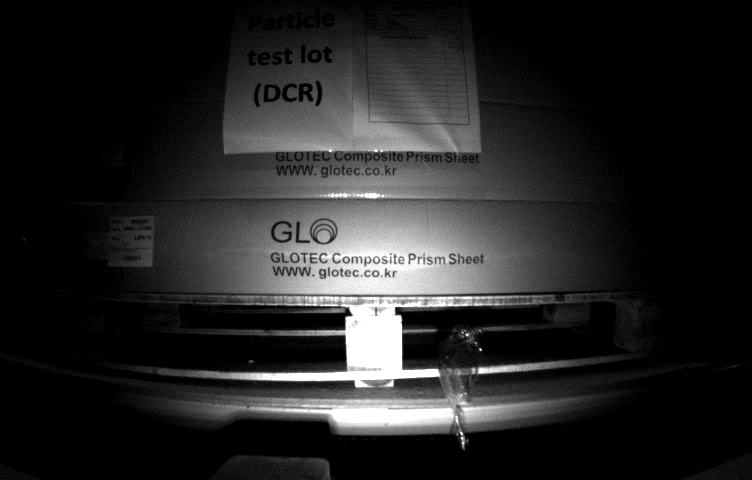True Barcode: (102, 217, 151, 268)
